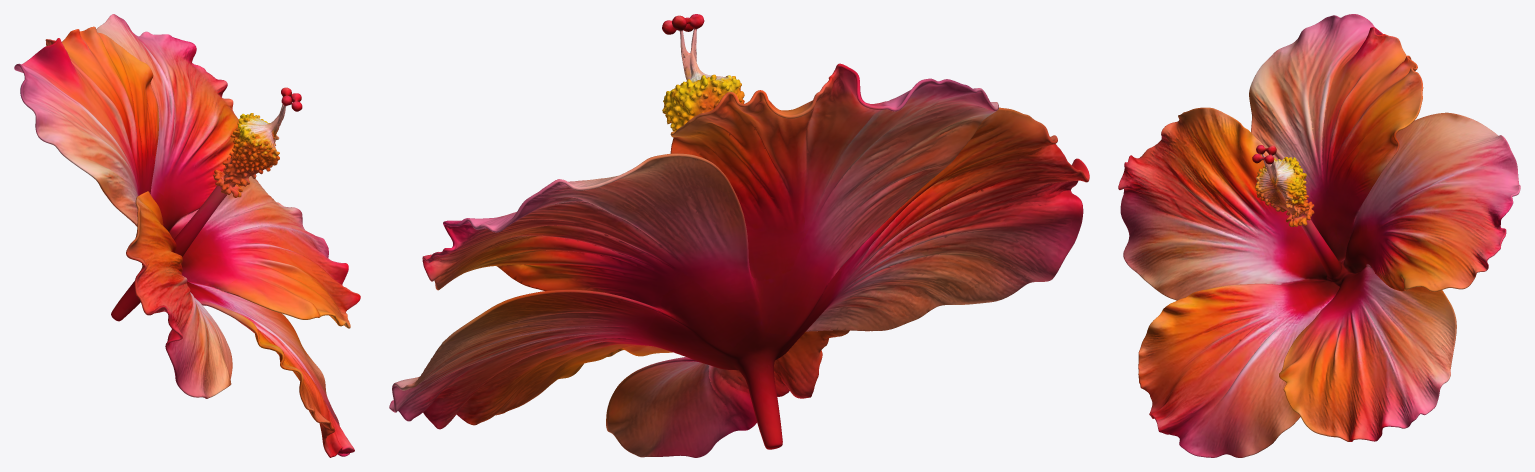
File: hibiscus.glb
The picture shows the model from 3 angles, left to right: view 1: azimuth 30°, elevation 25°; view 2: azimuth 150°, elevation 25°; view 3: azimuth 270°, elevation 25°; orthographic projection. The views are drawn at different scales.
Parts seen in each view (by area): view 1: tripo_node_98885cd7-8a9e-45f0-a832-26a68b3027f6; view 2: tripo_node_98885cd7-8a9e-45f0-a832-26a68b3027f6; view 3: tripo_node_98885cd7-8a9e-45f0-a832-26a68b3027f6.
Boxes of the visible parts, left/top/right/bottom form: tripo_node_98885cd7-8a9e-45f0-a832-26a68b3027f6: left=14, top=14, right=360, bottom=457; tripo_node_98885cd7-8a9e-45f0-a832-26a68b3027f6: left=389, top=14, right=1089, bottom=457; tripo_node_98885cd7-8a9e-45f0-a832-26a68b3027f6: left=1118, top=14, right=1520, bottom=457.
Size of the model in its own units: 0.9045 by 0.9349 by 0.9802.
1 material, 1 textured.
